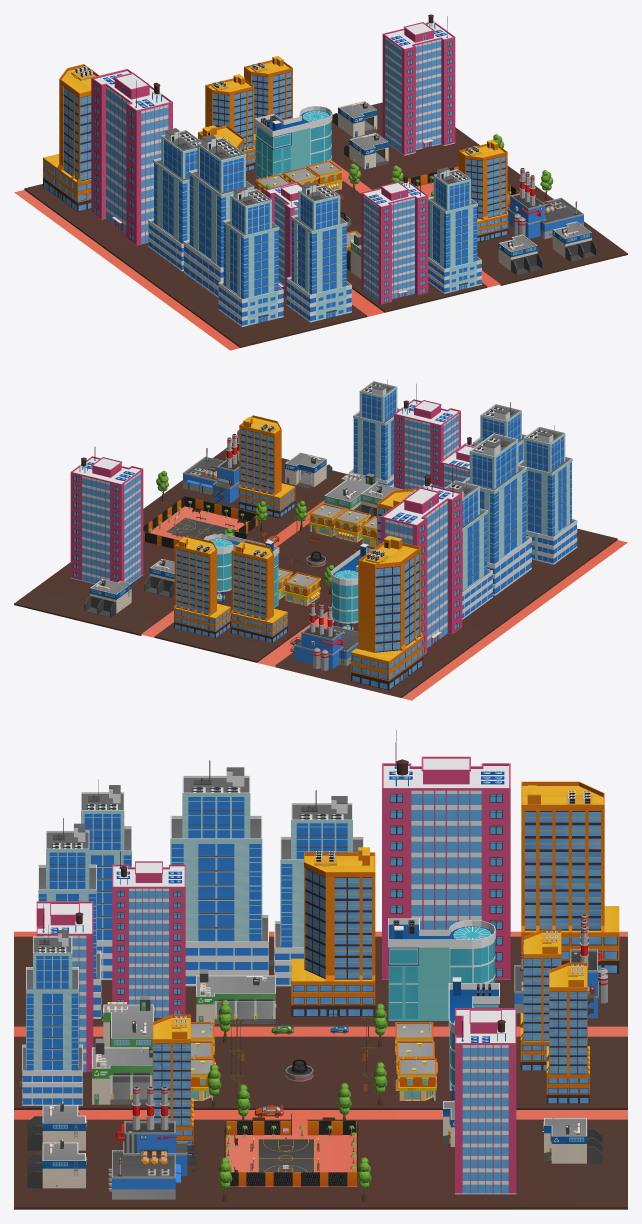
The model's file is city.fbx.
3 renders of one model, top to bottom at view 1: azimuth 30°, elevation 25°; view 2: azimuth 150°, elevation 25°; view 3: azimuth 270°, elevation 25°, orthographic. The views are drawn at different scales.
Parts seen in each view (by area): view 1: city_038; view 2: city_038; view 3: city_038.
Boxes of the visible parts, box(x1,y1,x2,y2) form: city_038: box(14, 14, 627, 350); city_038: box(14, 379, 627, 700); city_038: box(14, 730, 627, 1209).
Size of the model in its own units: 171 by 67.25 by 161.
